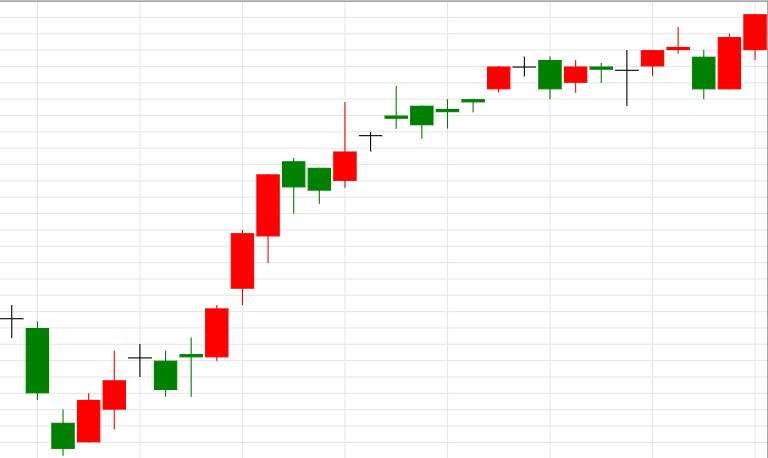shooting_star_fall: (206, 102, 357, 361)
